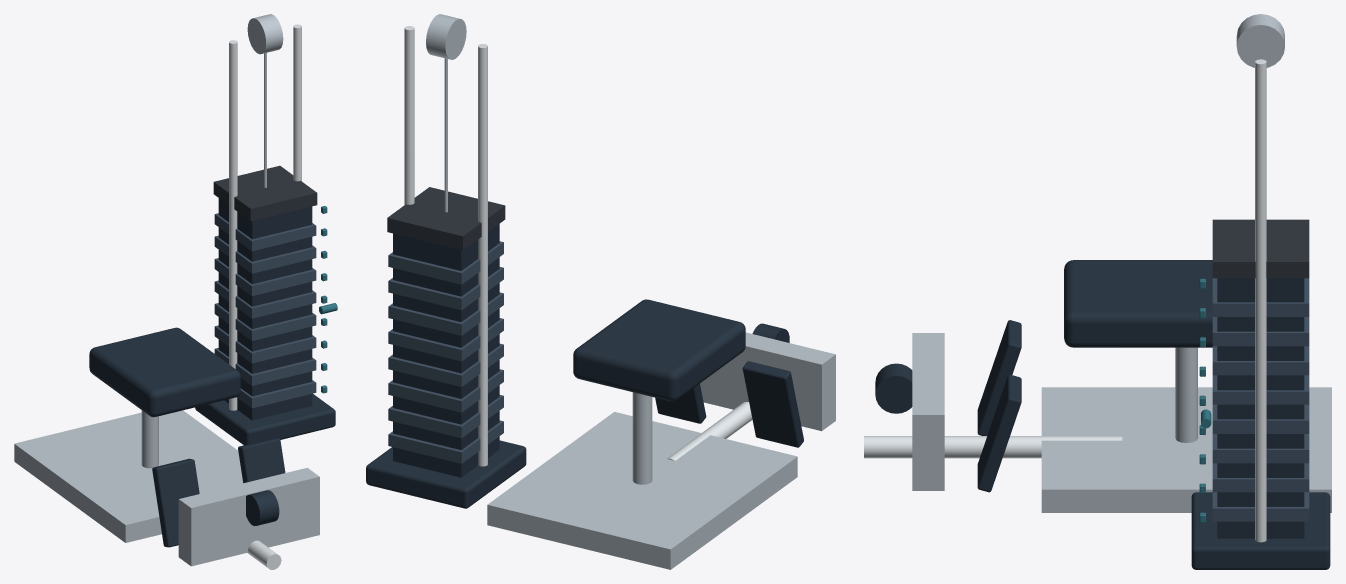
Rendered from seated_cable_row.glb.
The picture shows the model from 3 angles, left to right: view 1: azimuth 30°, elevation 25°; view 2: azimuth 150°, elevation 25°; view 3: azimuth 270°, elevation 25°; orthographic projection. The views are drawn at different scales.
Visible parts, largest first — view 1: base, weightPlate (×8), stack, seat, footSupport, guide (×2), footTraction (×2), stackBase, stackLift, loadPulley, lowPulley, post (+1 smaller); view 2: base, weightPlate (×8), stack, seat, footSupport, guide (×2), stackBase, footTraction (×2), stackLift, post, loadPulley, frontRail (+1 smaller); view 3: base, seat, weightPlate (×8), stack, stackBase, guide, stackLift, footSupport, footTraction (×2), frontRail, post, loadPulley (+1 smaller).
Part boxes in pixels (x1=…): base: x1=14, y1=410, x2=242, y2=542; weightPlate (×8): x1=214, y1=213, x2=316, y2=408; stack: x1=218, y1=198, x2=312, y2=420; seat: x1=89, y1=327, x2=240, y2=417; footSupport: x1=178, y1=467, x2=319, y2=566; guide (×2): x1=229, y1=24, x2=301, y2=410; footTraction (×2): x1=152, y1=438, x2=285, y2=547; stackBase: x1=195, y1=393, x2=335, y2=445; stackLift: x1=213, y1=165, x2=317, y2=221; loadPulley: x1=247, y1=14, x2=283, y2=54; lowPulley: x1=246, y1=490, x2=279, y2=526; post: x1=141, y1=410, x2=158, y2=468; base: x1=487, y1=412, x2=797, y2=569; weightPlate (×8): x1=388, y1=241, x2=503, y2=463; stack: x1=393, y1=224, x2=499, y2=477; seat: x1=573, y1=299, x2=745, y2=401; footSupport: x1=700, y1=332, x2=835, y2=431; guide (×2): x1=404, y1=26, x2=487, y2=466; stackBase: x1=366, y1=440, x2=526, y2=508; footTraction (×2): x1=655, y1=361, x2=803, y2=447; stackLift: x1=387, y1=187, x2=505, y2=250; post: x1=632, y1=392, x2=652, y2=484; loadPulley: x1=426, y1=14, x2=466, y2=59; frontRail: x1=667, y1=402, x2=752, y2=460; base: x1=1041, y1=387, x2=1331, y2=512; seat: x1=1064, y1=260, x2=1212, y2=347; weightPlate (×8): x1=1212, y1=278, x2=1309, y2=521; stack: x1=1217, y1=278, x2=1304, y2=538; stackBase: x1=1191, y1=492, x2=1330, y2=569; guide: x1=1255, y1=59, x2=1266, y2=542; stackLift: x1=1212, y1=219, x2=1309, y2=278; footSupport: x1=912, y1=333, x2=944, y2=490; footTraction (×2): x1=977, y1=320, x2=1021, y2=492; frontRail: x1=864, y1=436, x2=1122, y2=458; post: x1=1175, y1=347, x2=1197, y2=442; loadPulley: x1=1236, y1=14, x2=1284, y2=67.
Bounding box in the file's own units: 1.28 × 1.85 × 1.45.
